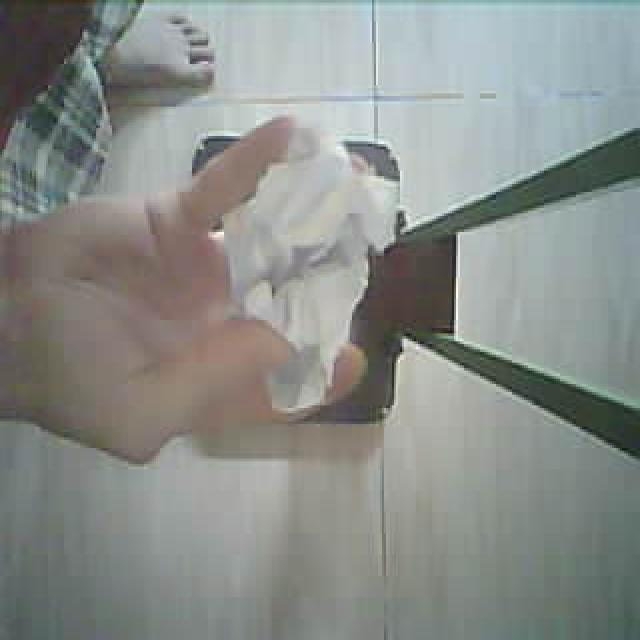Paper: (214, 144, 392, 407)
